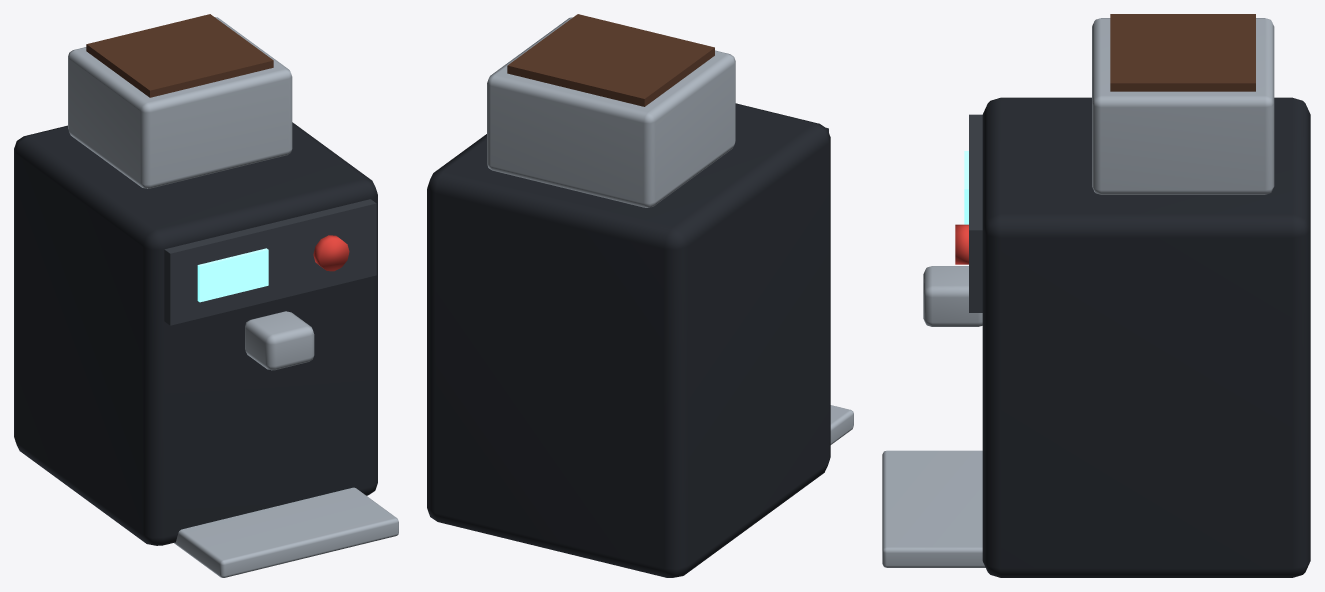
File: CoffeeMachine.fbx
3 views of the same model, side by side, from view 1: azimuth 30°, elevation 25°; view 2: azimuth 150°, elevation 25°; view 3: azimuth 270°, elevation 25° (orthographic). The views are drawn at different scales.
Parts seen in each view (by area): view 1: Body.003, Hopper, Panel, DripTray, Beans, Spout, Display, Button; view 2: Body.003, Hopper, Beans, DripTray; view 3: Body.003, Hopper, DripTray, Beans, Spout, Panel, Button.
Boxes of the visible parts, x1=… form: Body.003: x1=14, y1=122, x2=377, y2=545; Hopper: x1=68, y1=17, x2=292, y2=188; Panel: x1=164, y1=199, x2=376, y2=325; DripTray: x1=174, y1=487, x2=398, y2=577; Beans: x1=86, y1=14, x2=273, y2=97; Spout: x1=245, y1=311, x2=314, y2=370; Display: x1=197, y1=248, x2=268, y2=302; Button: x1=313, y1=235, x2=349, y2=271; Body.003: x1=427, y1=103, x2=830, y2=577; Hopper: x1=487, y1=17, x2=735, y2=207; Beans: x1=507, y1=14, x2=714, y2=106; DripTray: x1=830, y1=405, x2=853, y2=444; Body.003: x1=982, y1=97, x2=1310, y2=577; Hopper: x1=1092, y1=18, x2=1274, y2=194; DripTray: x1=882, y1=450, x2=985, y2=567; Beans: x1=1110, y1=14, x2=1255, y2=91; Spout: x1=923, y1=266, x2=982, y2=326; Panel: x1=969, y1=114, x2=982, y2=312; Button: x1=955, y1=224, x2=968, y2=264.
Size of the model in its own units: 0.34 by 0.57 by 0.47.
